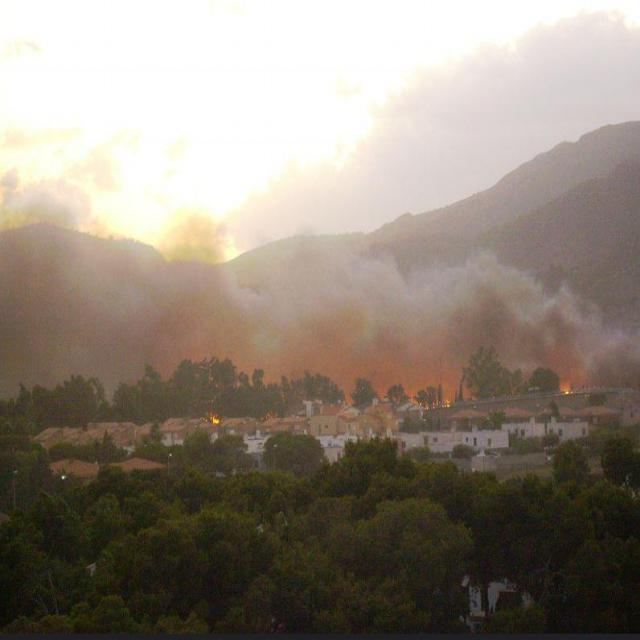Fire: (562, 379, 574, 394), (440, 397, 450, 409), (212, 415, 220, 423)
